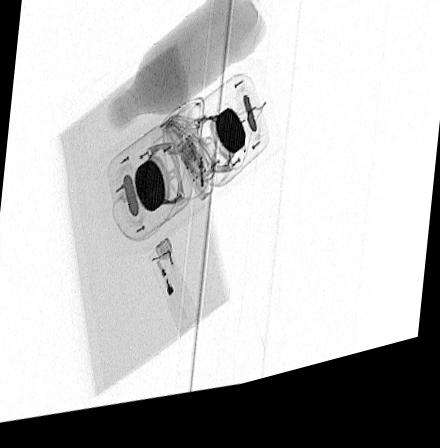Lighter: (151, 245, 200, 342)
